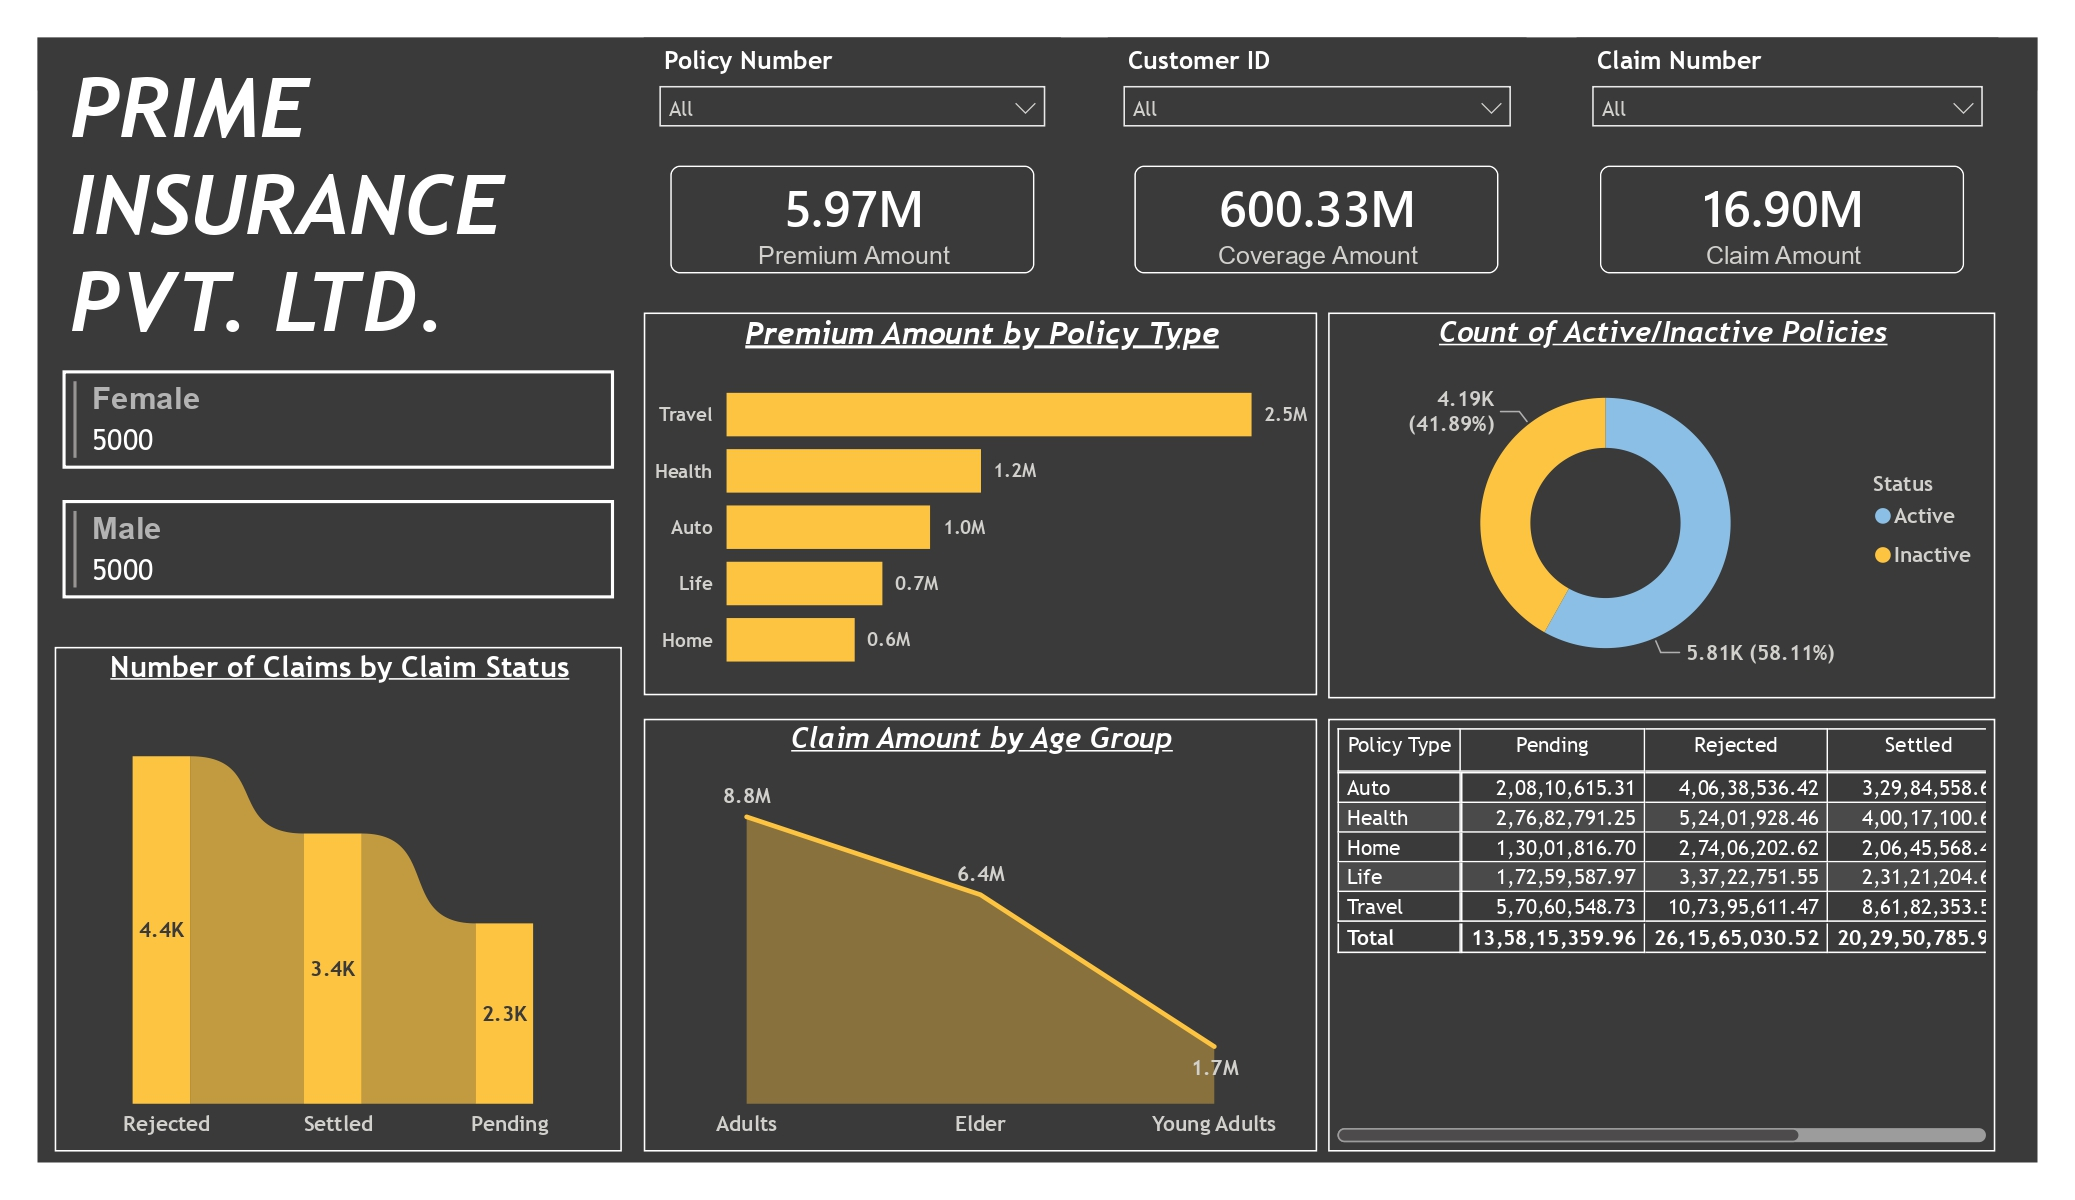

What the dashboard file says about the page in this screenshot:
{"tool":"powerbi","page":{"name":"Insurance Dashboard","canvas":[1280,720],"ordinal":0},"visuals":[{"type":"slicer","fields":{"Values":["InsuranceData.PolicyNumber"]},"box":[387.5,0,267.5,92.5],"z":0},{"type":"slicer","fields":{"Values":["InsuranceData.ClaimNumber"]},"box":[985,0,270,92.5],"z":1000},{"type":"slicer","fields":{"Values":["InsuranceData.CustomerID"]},"box":[685,0,267.5,92.5],"z":2000},{"type":"textbox","box":[16.2,8.8,357.5,198.8],"z":3000},{"type":"cardVisual","fields":{"Data":["Sum(InsuranceData.CoverageAmount)"]},"box":[685,65,267.5,103.8],"z":4000},{"type":"multiRowCard","fields":{"Values":["InsuranceData.Gender","CountNonNull(InsuranceData.Gender)"]},"box":[11.2,207.5,362.5,182.5],"z":5000},{"type":"ribbonChart","title":"Number of Claims by Claim Status","fields":{"Category":["InsuranceData.ClaimStatus"],"Y":["CountNonNull(InsuranceData.ClaimStatus)"]},"box":[11.2,390,362.5,322.5],"z":6000},{"type":"barChart","title":"Premium Amount by Policy Type","fields":{"Category":["InsuranceData.PolicyType"],"Y":["Sum(InsuranceData.PremiumAmount)"]},"box":[387.5,176.2,431.2,245],"z":7000},{"type":"lineChart","title":"Claim Amount by Age Group","fields":{"Category":["InsuranceData.Age Group"],"Y":["Sum(InsuranceData.ClaimAmount)"]},"box":[387.5,436.2,431.2,276.2],"z":8000},{"type":"cardVisual","fields":{"Data":["Sum(InsuranceData.PremiumAmount)"]},"box":[387.5,65,267.5,103.8],"z":9000},{"type":"cardVisual","fields":{"Data":["Sum(InsuranceData.ClaimAmount)"]},"box":[982.5,65,267.5,103.8],"z":10000},{"type":"donutChart","title":"Count of Active/Inactive Policies","fields":{"Category":["InsuranceData.Active/Inactive"],"Y":["CountNonNull(InsuranceData.Active/Inactive)"]},"box":[826.2,176.2,426.2,246.2],"z":11000},{"type":"pivotTable","fields":{"Values":["Sum(InsuranceData.CoverageAmount)"],"Rows":["InsuranceData.PolicyType"],"Columns":["InsuranceData.ClaimStatus"]},"box":[826.2,436.2,426.2,276.2],"z":12000}]}

Visuals, with their boxes on the page's 1280x720 design canvas (x1, y1, x2, y2). These are canvas units, not pixel positions in the 2075x1200 screenshot, which may show the page scaled, cropped or inside an application window:
slicer - InsuranceData.PolicyNumber: region(388, 0, 655, 92)
slicer - InsuranceData.ClaimNumber: region(985, 0, 1255, 92)
slicer - InsuranceData.CustomerID: region(685, 0, 952, 92)
textbox: region(16, 9, 374, 208)
cardVisual - Sum(InsuranceData.CoverageAmount): region(685, 65, 952, 169)
multiRowCard - InsuranceData.Gender x CountNonNull(InsuranceData.Gender): region(11, 208, 374, 390)
"Number of Claims by Claim Status" ribbonChart: region(11, 390, 374, 712)
"Premium Amount by Policy Type" barChart: region(388, 176, 819, 421)
"Claim Amount by Age Group" lineChart: region(388, 436, 819, 712)
cardVisual - Sum(InsuranceData.PremiumAmount): region(388, 65, 655, 169)
cardVisual - Sum(InsuranceData.ClaimAmount): region(982, 65, 1250, 169)
"Count of Active/Inactive Policies" donutChart: region(826, 176, 1252, 422)
pivotTable - Sum(InsuranceData.CoverageAmount) x InsuranceData.PolicyType: region(826, 436, 1252, 712)
